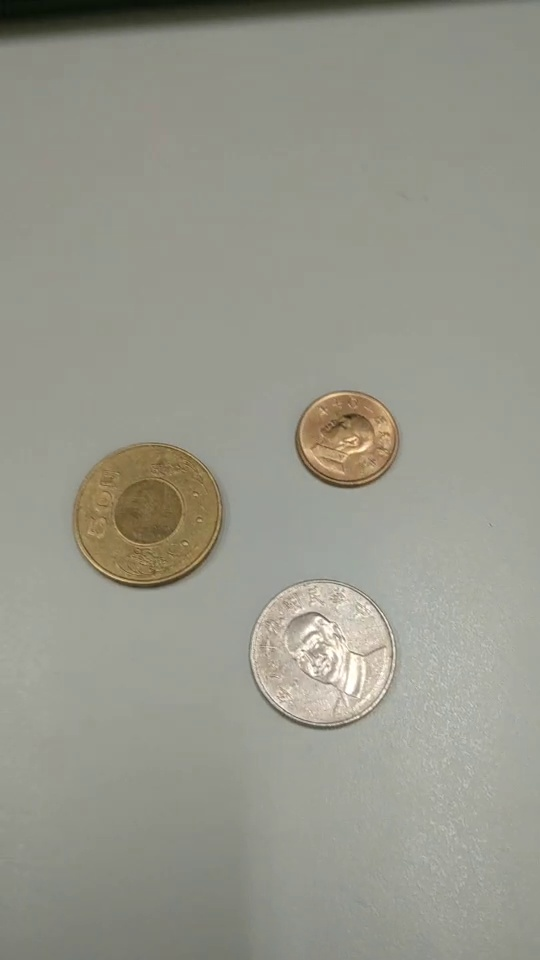NT$ 1: (298, 388, 401, 489)
NT$ 10: (252, 579, 398, 728)
NT$ 50: (73, 441, 224, 590)
